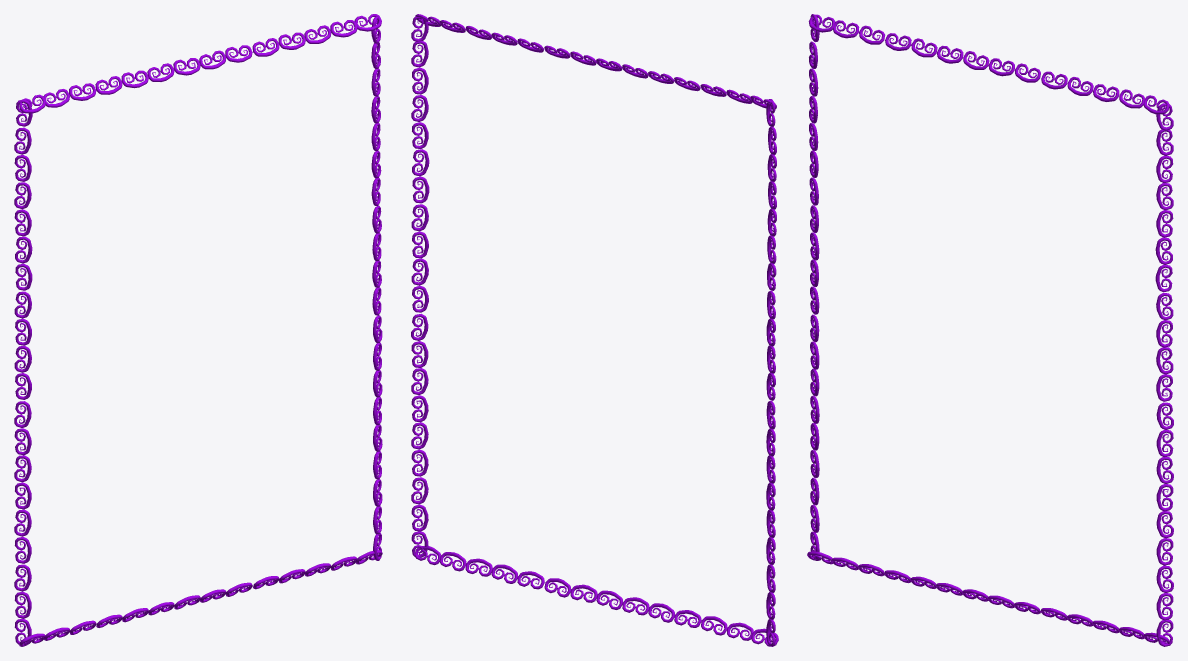
The model's file is ModelTest.glb.
3 views of the same model, side by side, from view 1: azimuth 30°, elevation 25°; view 2: azimuth 150°, elevation 25°; view 3: azimuth 330°, elevation 25° (orthographic).
Visible parts, largest first — view 1: CurlyBorder; view 2: CurlyBorder; view 3: CurlyBorder.
Boxes of the visible parts, x1=… form: CurlyBorder: x1=14, y1=14, x2=382, y2=646; CurlyBorder: x1=411, y1=14, x2=778, y2=646; CurlyBorder: x1=807, y1=14, x2=1173, y2=646.
Size of the model in its own units: 0.1368 by 0.1955 by 0.00498.
